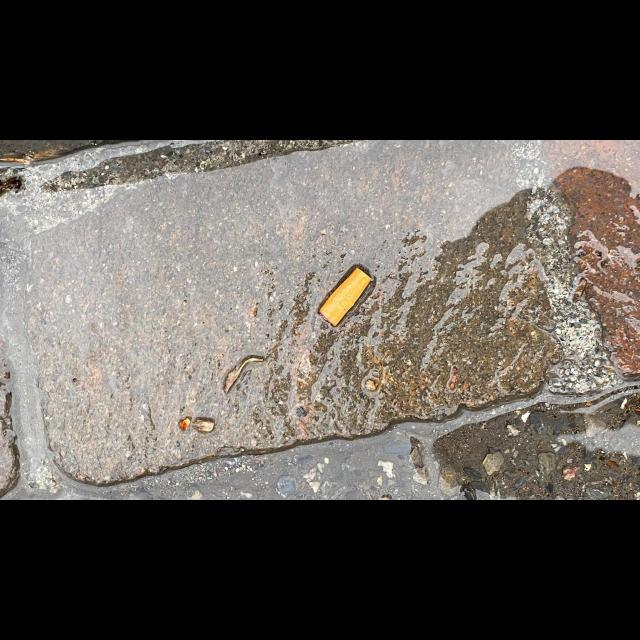cigarette: (318, 266, 372, 328)
